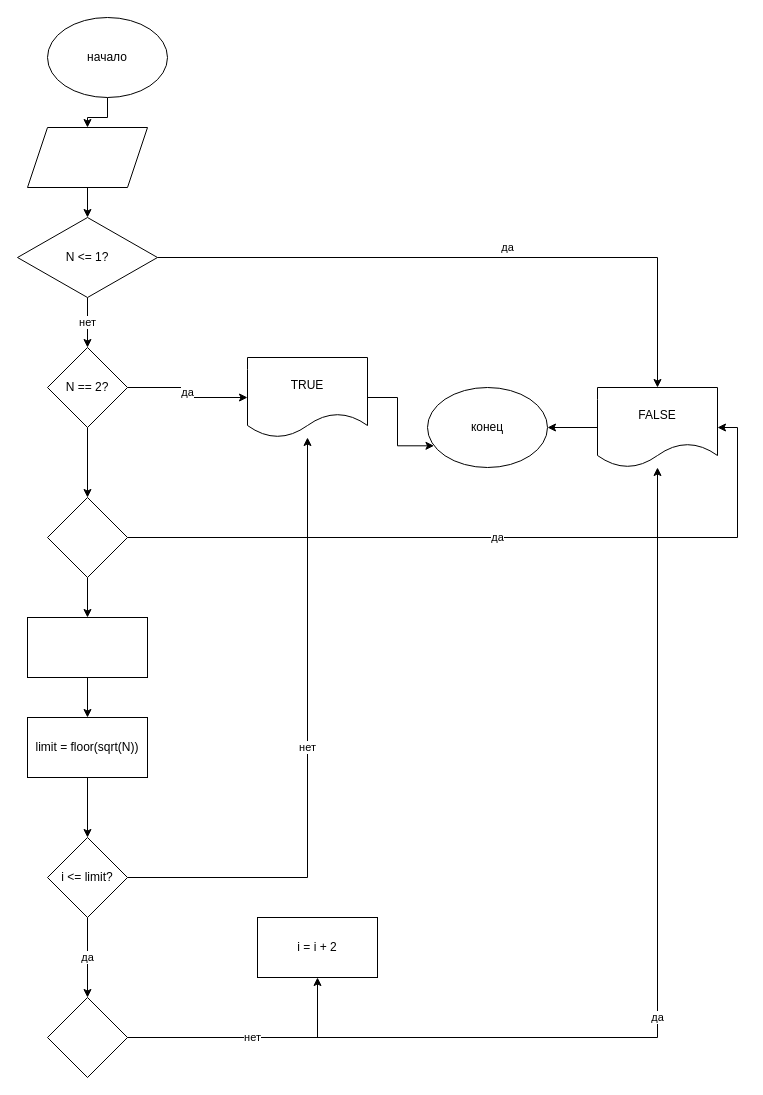
Image size: 763x1095. Some labels were removed from this diagram. The centre of each missing label's shape, as x and y in pixels:
i = 3: (87,647)
N % 2 == 0?: (87,537)
N % i == 0?: (87,1037)
ВВОД N: (87,157)
